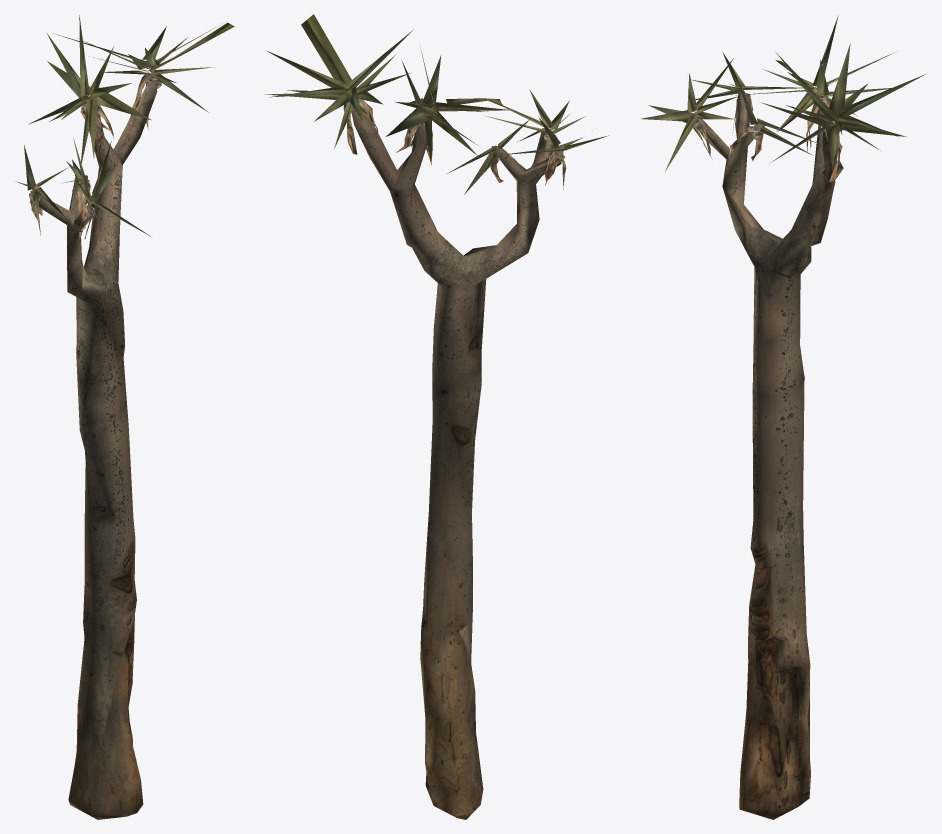
File: quiver_tree_01.glb
3 renders of one model, left to right at view 1: azimuth 30°, elevation 25°; view 2: azimuth 150°, elevation 25°; view 3: azimuth 270°, elevation 25°, orthographic. The views are drawn at different scales.
Visible parts, largest first — view 1: quiver_tree_01; view 2: quiver_tree_01; view 3: quiver_tree_01.
Part boxes in pixels (x1,y1,x2,y2): quiver_tree_01: (15, 15, 234, 819); quiver_tree_01: (264, 14, 608, 819); quiver_tree_01: (640, 15, 925, 819).
Size of the model in its own units: 0.9763 by 2.67 by 0.8698.
2 materials, 2 textured.
